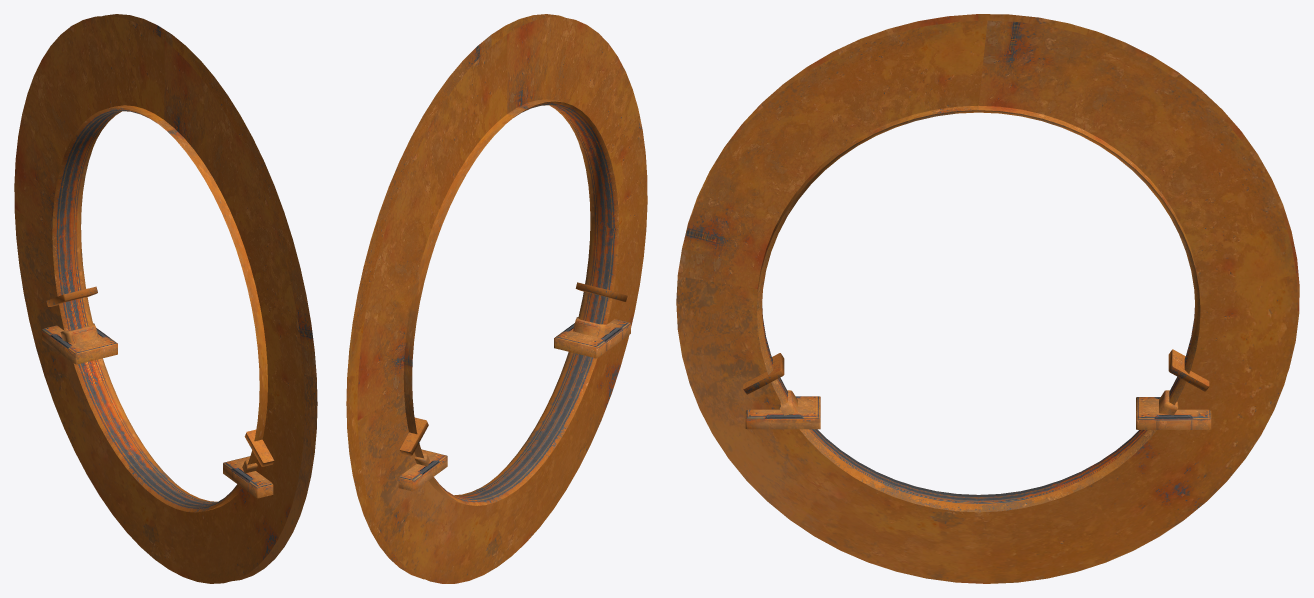
File: 05_01_adon_ring_large.DAE
The picture shows the model from 3 angles, left to right: view 1: azimuth 30°, elevation 25°; view 2: azimuth 150°, elevation 25°; view 3: azimuth 270°, elevation 25°; orthographic projection. The views are drawn at different scales.
Parts seen in each view (by area): view 1: ring-Pivot; view 2: ring-Pivot; view 3: ring-Pivot.
Part boxes in pixels (x1,y1,x2,y2): ring-Pivot: (14,14,317,583); ring-Pivot: (346,14,647,583); ring-Pivot: (676,14,1299,583).
Bounding box in the file's own units: 0.4544 × 5.18 × 5.19.
